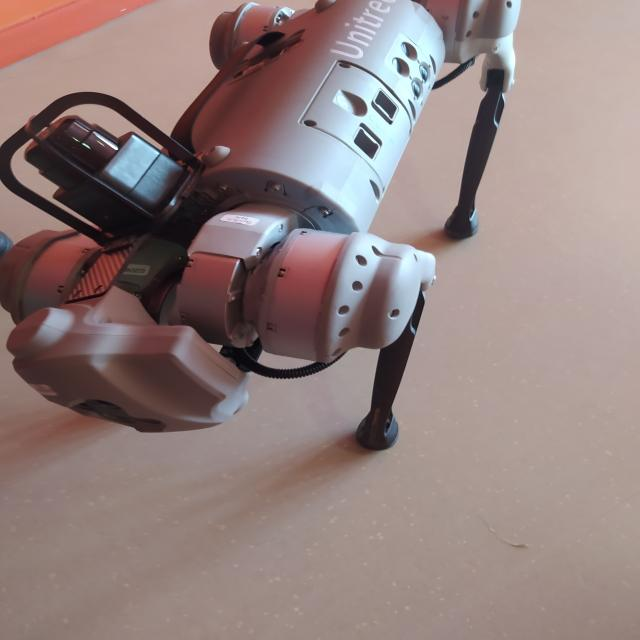unitree-go1-robot: (0, 0, 540, 475)
